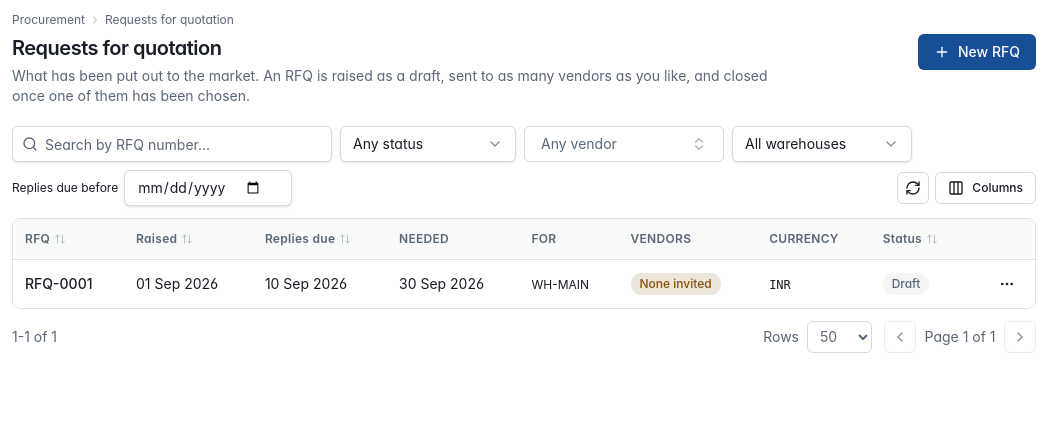
Test: the state machine decides which commands exist › withholds Send from a draft that names no vendors, and says why
The image size is (1048, 431).
Expected: the text "None invited" is shown, x1=630 y1=272 x2=721 y2=294
Click the button named "More actions for RFQ-0001". click: (1007, 284)
box: x1=991 y1=268 x2=1023 y2=300
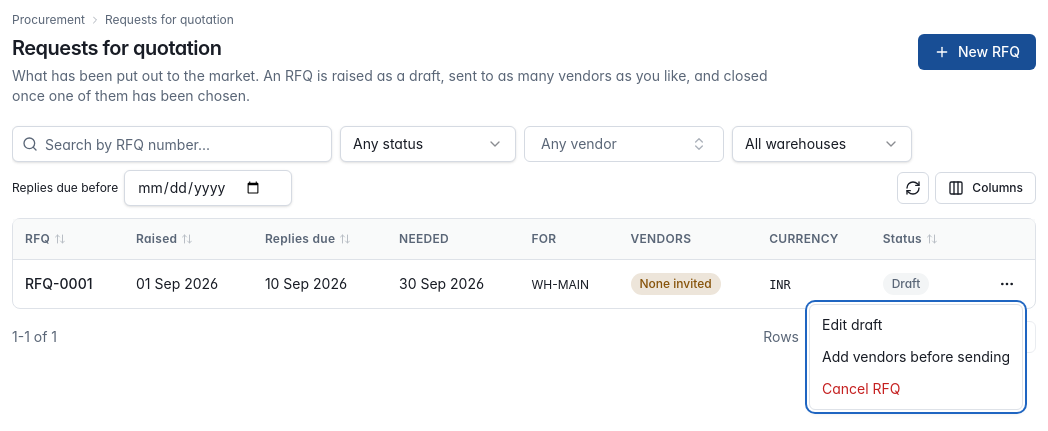
Now the menu is shown, box x1=809 y1=304 x2=1023 y2=410
Now the menu item "Add vendors before sending" is shown, box x1=822 y1=348 x2=1010 y2=365
